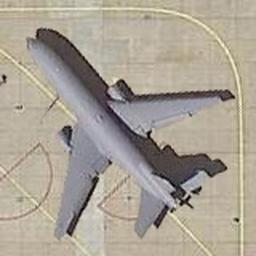Airplane: (26, 32, 234, 244)
